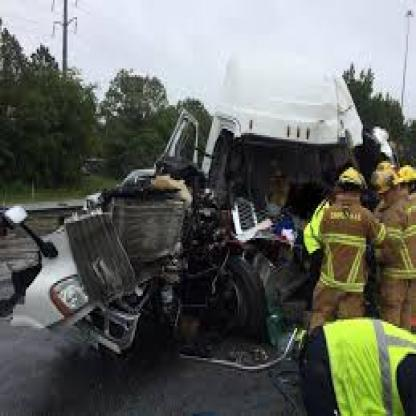accident: (9, 41, 359, 369)
